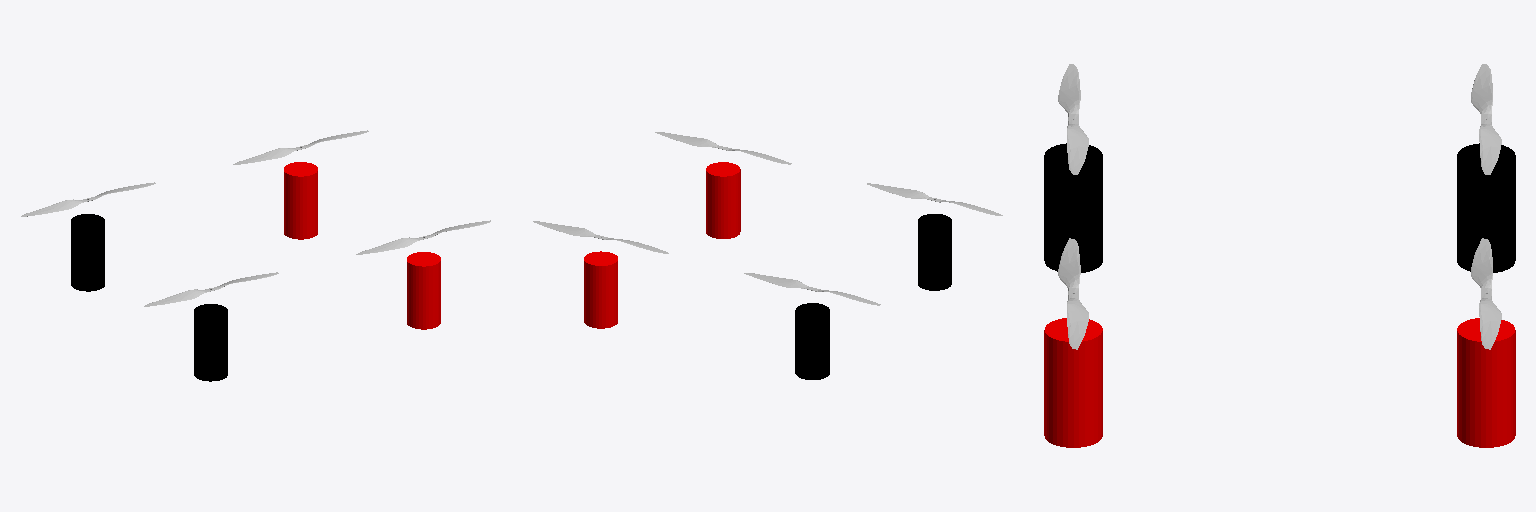
URDF robot description (a300):
<?xml version="1.0" ?>

<robot name="a300">

  <properties mass="1.21" arm="0.15" kf="4.5e-8" km="5.4e-10" thrust2weight="6.945"  max_speed_kmh="200" gnd_eff_coeff="11.36859" prop_radius="0.089" drag_coeff_xy="9.1785e-7" drag_coeff_z="10.311e-7" dw_coeff_1="2267.18" dw_coeff_2=".16" dw_coeff_3="-.11" />

  <link name="base_link"> 

    <inertial>
      <origin rpy="0 0 0" xyz="0 0 0"/>
      <mass value="1.21"/>
      <inertia ixx=".007" ixy="0.0" ixz="0.0" iyy=".007" iyz="0.0" izz=".01"/>
    </inertial>

    <visual>
      <origin rpy="0 0 55" xyz="0 0 0.075"/>
      <geometry>
        <mesh filename="./mesh/a300/frame.stl" scale="0.001 0.001 0.001"/>
      </geometry> 
      <material name="frame">
        <color rgba="0.2 0.2 0.2 1"/>
      </material> 
    </visual>

    <visual>
      <origin rpy="0 0 55" xyz="0.106 -0.106 0.075"/>
      <geometry>
        <mesh filename="./mesh/a300/motor.stl" scale="0.001 0.001 0.001"/>
      </geometry> 
      <material name="motor">
        <color rgba="0 .0 .0 1"/>
      </material> 
    </visual>
    <visual>
      <origin rpy="0 0 55" xyz="-0.106 0.106 0.075"/>
      <geometry>
        <mesh filename="./mesh/a300/motor.stl" scale="0.001 0.001 0.001"/>
      </geometry> 
      <material name="motor">
        <color rgba="0 .0 .0 1"/>
      </material> 
    </visual>
    <visual>
      <origin rpy="0 0 55" xyz="0.106 0.106 0.075"/>
      <geometry>
        <mesh filename="./mesh/a300/motor.stl" scale="0.001 0.001 0.001"/>
      </geometry> 
      <material name="motor">
        <color rgba="0 .0 .0 1"/>
      </material> 
    </visual>
    <visual>
      <origin rpy="0 0 55" xyz="-0.106 -0.106 0.075"/>
      <geometry>
        <mesh filename="./mesh/a300/motor.stl" scale="0.001 0.001 0.001"/>
      </geometry> 
      <material name="motor">
        <color rgba="0 .0 .0 1"/>
      </material> 
    </visual>


<!-- Added 4 Cylindrical Legs -->
    <visual>
      <origin rpy="0 0 0" xyz="0.106 -0.106 -0.03"/>
      <geometry>
        <cylinder radius="0.015" length="0.06"/>
      </geometry>
      <material name="red"><color rgba="1 0 0 1"/></material>
    </visual>
    <visual>
      <origin rpy="0 0 0" xyz="-0.106 0.106 -0.03"/>
      <geometry>
        <cylinder radius="0.015" length="0.06"/>
      </geometry>
      <material name="black"><color rgba="0 0 0 1"/></material>
    </visual>
    <visual>
      <origin rpy="0 0 0" xyz="0.106 0.106 -0.03"/>
      <geometry>
        <cylinder radius="0.015" length="0.06"/>
      </geometry>
      <material name="red"><color rgba="1 0 0 1"/></material>
    </visual>
    <visual>
      <origin rpy="0 0 0" xyz="-0.106 -0.106 -0.03"/>
      <geometry>
        <cylinder radius="0.015" length="0.06"/>
      </geometry>
      <material name="black"><color rgba="0 0 0 1"/></material>
    </visual>


    <collision>
      <origin rpy="0 0 0" xyz="0 0 0"/>
      <geometry>
        <cylinder radius=".06" length=".025"/>
      </geometry>
    </collision>  

  </link>

  <link name="prop0_link">
    <inertial>
      <origin rpy="0 0 0" xyz="0.106 -0.106 0"/>
      <mass value="0"/>
      <inertia ixx="0" ixy="0" ixz="0" iyy="0" iyz="0" izz="0"/>
    </inertial>
    <visual>
      <origin rpy="0 0 0" xyz="0.106 -0.106 0.02"/>
      <geometry>
          <mesh filename="./mesh/a300/prop.dae"  scale="0.4 0.4 0.4"/>
      </geometry> 
    </visual>
  </link>
  <joint name="prop0_joint" type="fixed">
    <parent link="base_link"/>
    <child link="prop0_link"/>
  </joint>

  <link name="prop1_link">
    <inertial>
      <origin rpy="0 0 0" xyz="-0.106 0.106 0"/>
      <mass value="0"/>
      <inertia ixx="0" ixy="0" ixz="0" iyy="0" iyz="0" izz="0"/>
    </inertial>
    <visual>
      <origin rpy="0 0 0" xyz="-0.106 0.106 0.02"/>
      <geometry>
          <mesh filename="./mesh/a300/prop.dae"  scale="0.4 0.4 0.4"/>
      </geometry> 
    </visual>
  </link>
  <joint name="prop1_joint" type="fixed">
    <parent link="base_link"/>
    <child link="prop1_link"/>
  </joint>

  <link name="prop2_link">
    <inertial>
      <origin rpy="0 0 0" xyz="0.106 0.106 0"/>
      <mass value="0"/>
      <inertia ixx="0" ixy="0" ixz="0" iyy="0" iyz="0" izz="0"/>
    </inertial>
    <visual>
      <origin rpy="0 0 0" xyz="0.106 0.106 0.02"/>
      <geometry>
          <mesh filename="./mesh/a300/prop.dae"  scale="0.4 0.4 0.4"/>
      </geometry>
    </visual>
  </link>
  <joint name="prop2_joint" type="fixed">
    <parent link="base_link"/>
    <child link="prop2_link"/>
  </joint>

  <link name="prop3_link">
    <inertial>
      <origin rpy="0 0 0" xyz="-0.106 -0.106 0"/>
      <mass value="0"/>
      <inertia ixx="0" ixy="0" ixz="0" iyy="0" iyz="0" izz="0"/>
    </inertial>
    <visual>
      <origin rpy="0 0 0" xyz="-0.106 -0.106 0.02"/>
      <geometry>
          <mesh filename="./mesh/a300/prop.dae"  scale="0.4 0.4 0.4"/>
      </geometry>
    </visual>
  </link>
  <joint name="prop3_joint" type="fixed">
    <parent link="base_link"/>
    <child link="prop3_link"/>
  </joint>


  <link name="center_of_mass_link">
    <inertial>
      <origin rpy="0 0 0" xyz="0 0 0"/>
      <mass value="0"/>
      <inertia ixx="0" ixy="0" ixz="0" iyy="0" iyz="0" izz="0"/>
    </inertial>
  </link>
  <joint name="center_of_mass_joint" type="fixed">
    <parent link="base_link"/>
    <child link="center_of_mass_link"/>
  </joint>

</robot>

--- What the picture shows (computed from the rendered views, not written in the file) ---
3 views of the same robot in one strip: view 1: azimuth 30°, elevation 25°; view 2: azimuth 150°, elevation 25°; view 3: azimuth 270°, elevation 25° (orthographic).
Model a300 with 6 links and 5 joints (5 fixed), rooted at base_link, posed all joints at 0.
Visible links, largest first — view 1: base_link, prop3_link, prop2_link, prop0_link, prop1_link; view 2: base_link, prop0_link, prop1_link, prop2_link, prop3_link; view 3: base_link, prop1_link, prop0_link, prop2_link, prop3_link.
Boxes of the visible links, <box> form: base_link: <box>71,162,440,381</box>; prop3_link: <box>144,272,278,306</box>; prop2_link: <box>233,130,368,164</box>; prop0_link: <box>356,220,490,254</box>; prop1_link: <box>21,182,155,216</box>; base_link: <box>584,162,951,379</box>; prop0_link: <box>655,132,791,164</box>; prop1_link: <box>744,273,880,305</box>; prop2_link: <box>533,221,668,253</box>; prop3_link: <box>867,183,1002,215</box>; base_link: <box>1044,143,1515,447</box>; prop1_link: <box>1471,64,1501,174</box>; prop0_link: <box>1058,238,1088,349</box>; prop2_link: <box>1471,238,1501,349</box>; prop3_link: <box>1058,64,1088,174</box>.
Bounding box of the posed robot: 0.3472 × 0.242 × 0.0832 m (x, y, z).
4 mesh visuals loaded from 3 distinct referenced files (1 Collada DAE); not drawn: 5 (reference not matched to a file when rendering).
